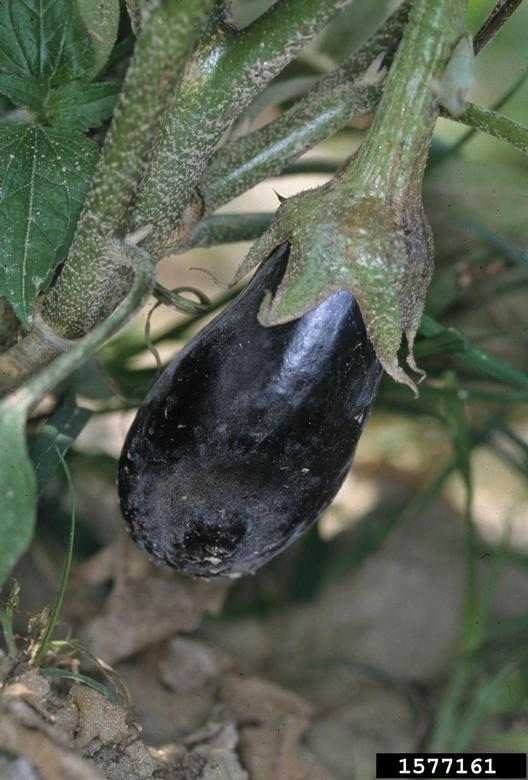Eggplant_PhytophthoraBlight: (123, 211, 451, 584)
